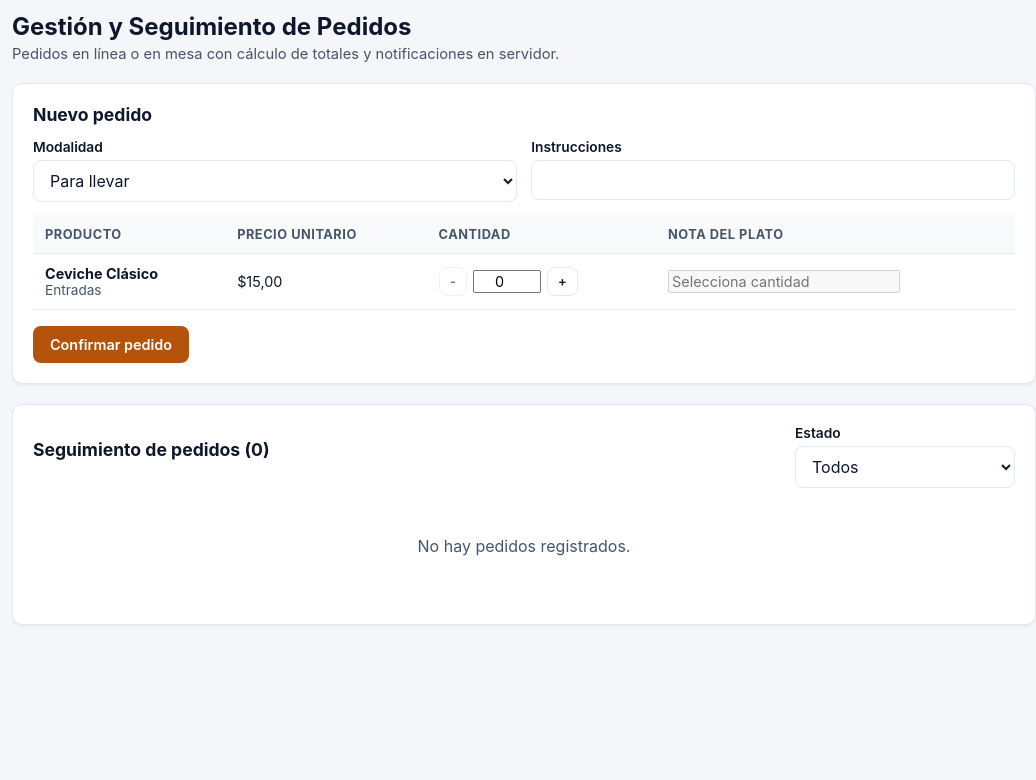
Scenario: Flujos de disponibilidad, reservas y pedidos › crea un pedido y muestra el total calculado por el servidor en OrdersPage
Replace the text in the number field named "Cantidad de Ceviche Clásico" with "2" at (507, 281), box left=473, top=270, right=541, bottom=293
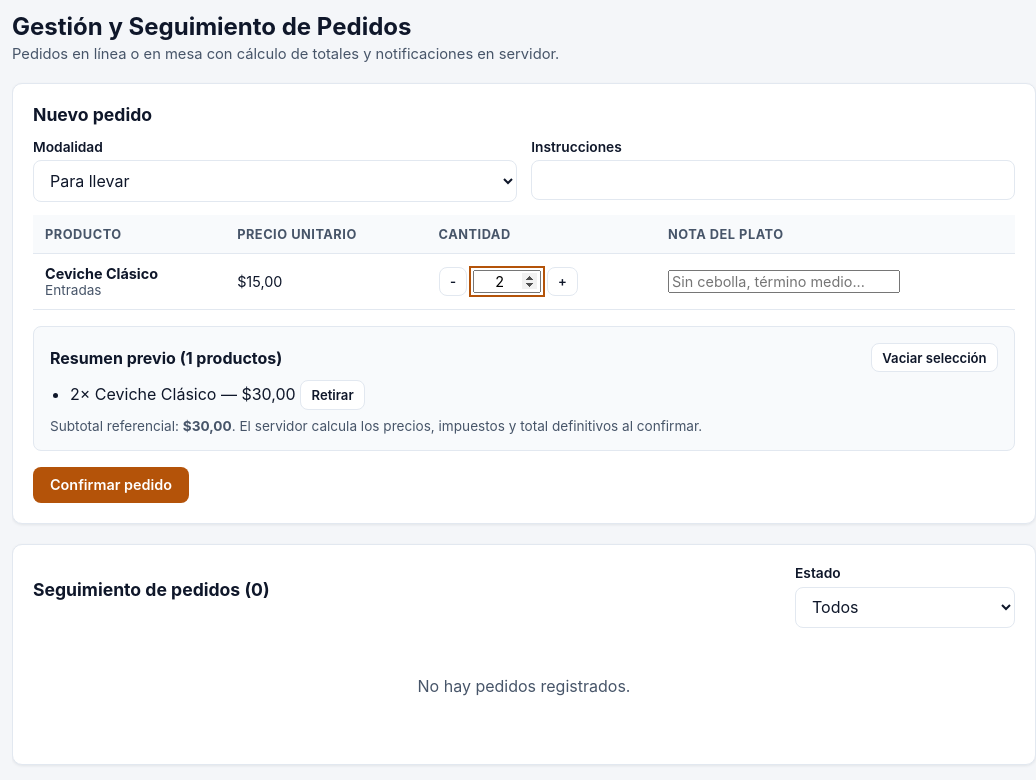
Click the button "Confirmar pedido" at (111, 485), box left=33, top=466, right=189, bottom=503
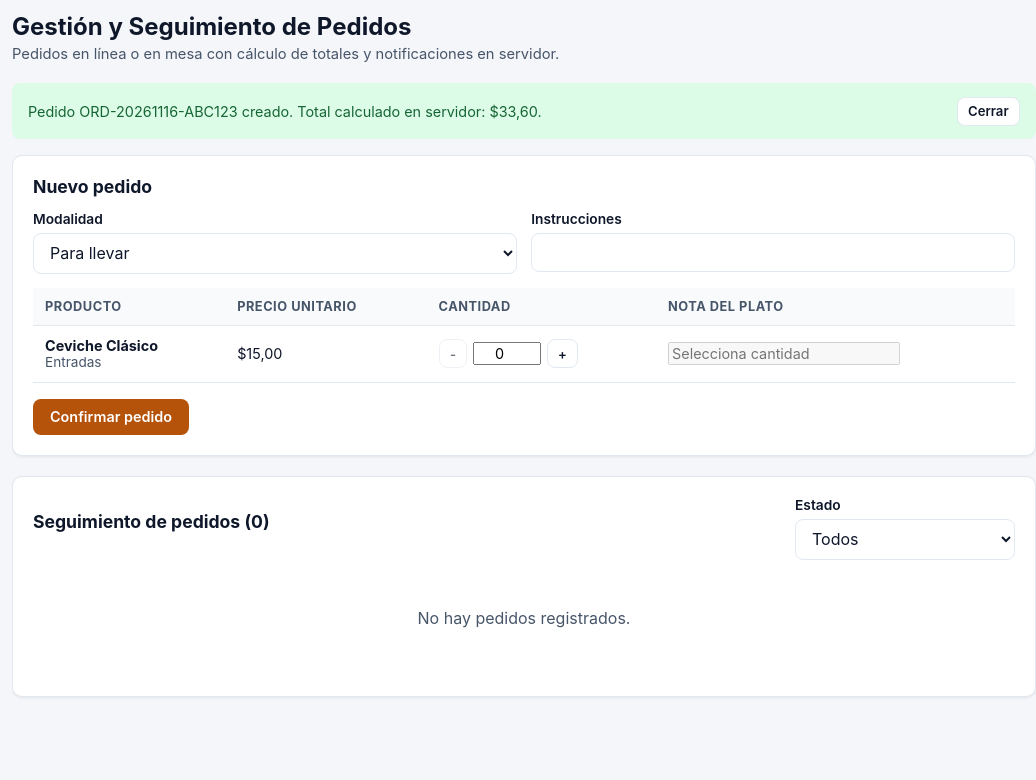
Check: the message shows "ORD-20261116-ABC123", box left=28, top=103, right=542, bottom=120
